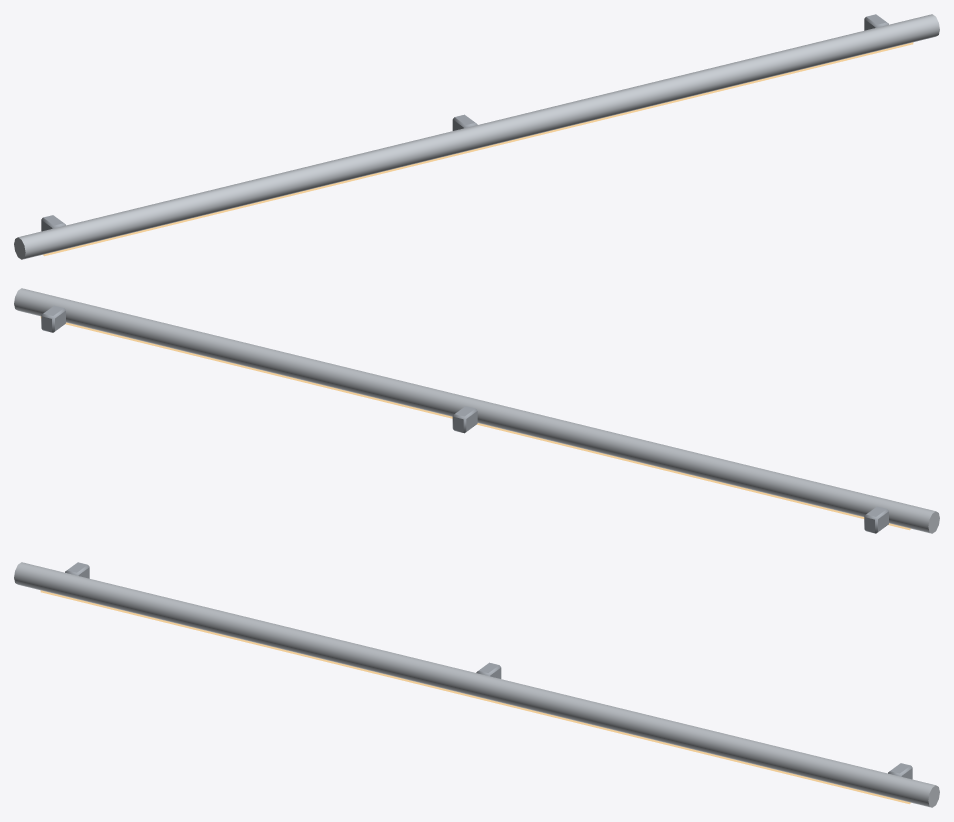
The model's file is striplight_handrail_light.glb.
The picture shows the model from 3 angles, top to bottom: view 1: azimuth 30°, elevation 25°; view 2: azimuth 150°, elevation 25°; view 3: azimuth 330°, elevation 25°; orthographic projection.
Visible parts, largest first — view 1: striplight_handrail_light; view 2: striplight_handrail_light; view 3: striplight_handrail_light.
Part boxes in pixels (box(x1,y1,x2,y2)): striplight_handrail_light: box(14, 14, 939, 259); striplight_handrail_light: box(14, 288, 939, 533); striplight_handrail_light: box(14, 562, 939, 807).
Bounding box in the file's own units: 2 × 0.0459 × 0.092.
